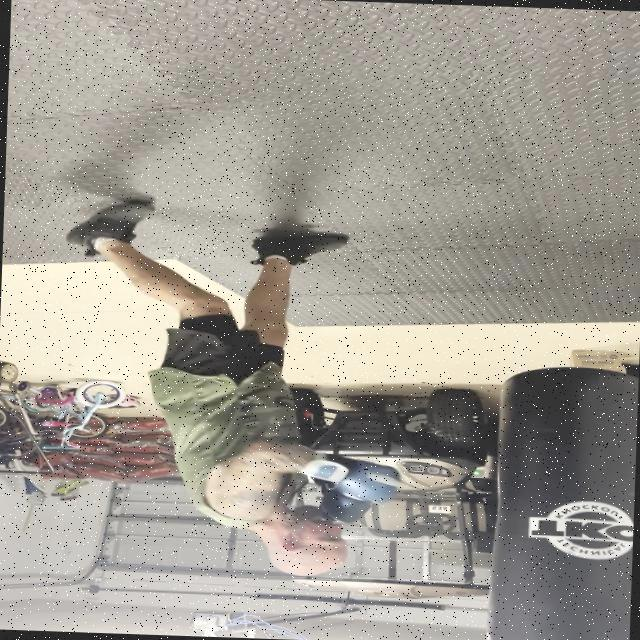punch: (157, 426, 411, 586)
